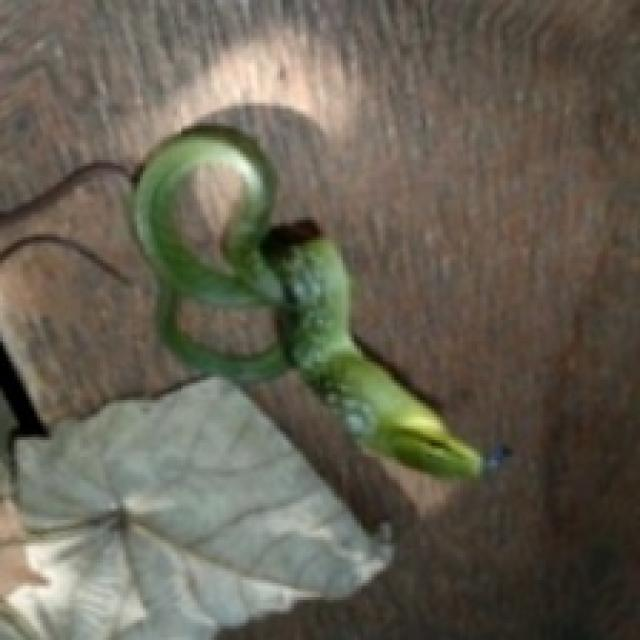red-tailed green ratsnake: (129, 126, 480, 474), (131, 126, 480, 474)
